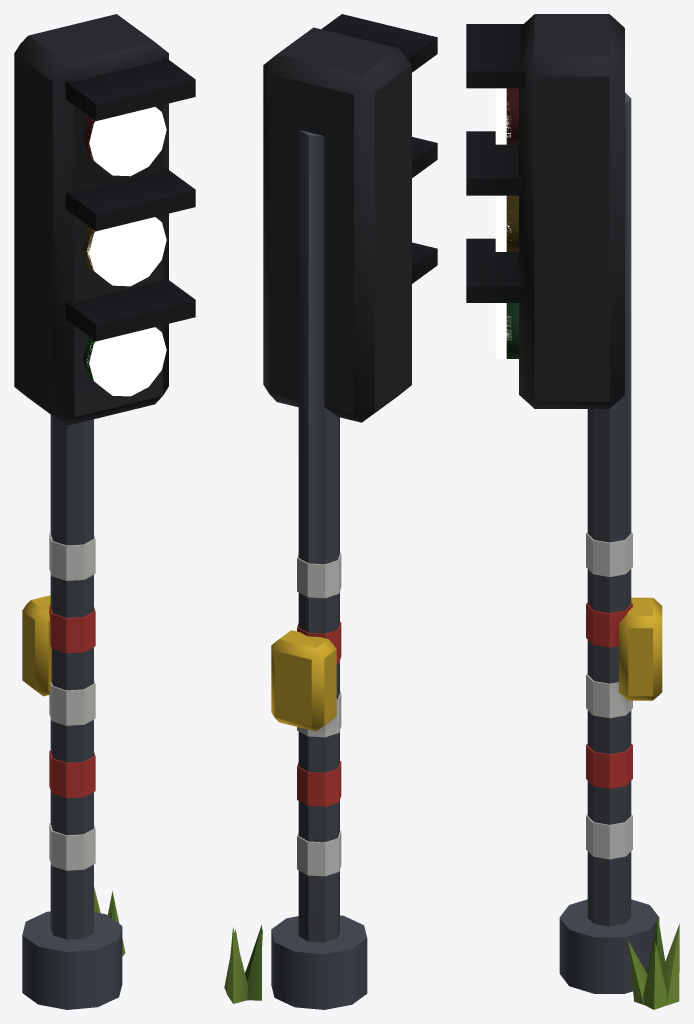
The model's file is p_st_ampel.glb.
The picture shows the model from 3 angles, left to right: view 1: azimuth 30°, elevation 25°; view 2: azimuth 150°, elevation 25°; view 3: azimuth 270°, elevation 25°; orthographic projection. The views are drawn at different scales.
Visible parts, largest first — view 1: body, yellow_glow, green_glow, red_glow; view 2: body; view 3: body, red_glow, green_glow, yellow_glow.
Part boxes in pixels (x1,y1,x2,y2): body: (14,14,195,1009); yellow_glow: (86,217,166,286); green_glow: (87,327,166,396); red_glow: (88,107,166,176); body: (224,14,437,1009); body: (466,14,679,1009); red_glow: (495,88,511,144); green_glow: (495,303,511,358); yellow_glow: (495,195,511,251).
Size of the model in its own units: 0.4847 by 3.34 by 0.6856.
